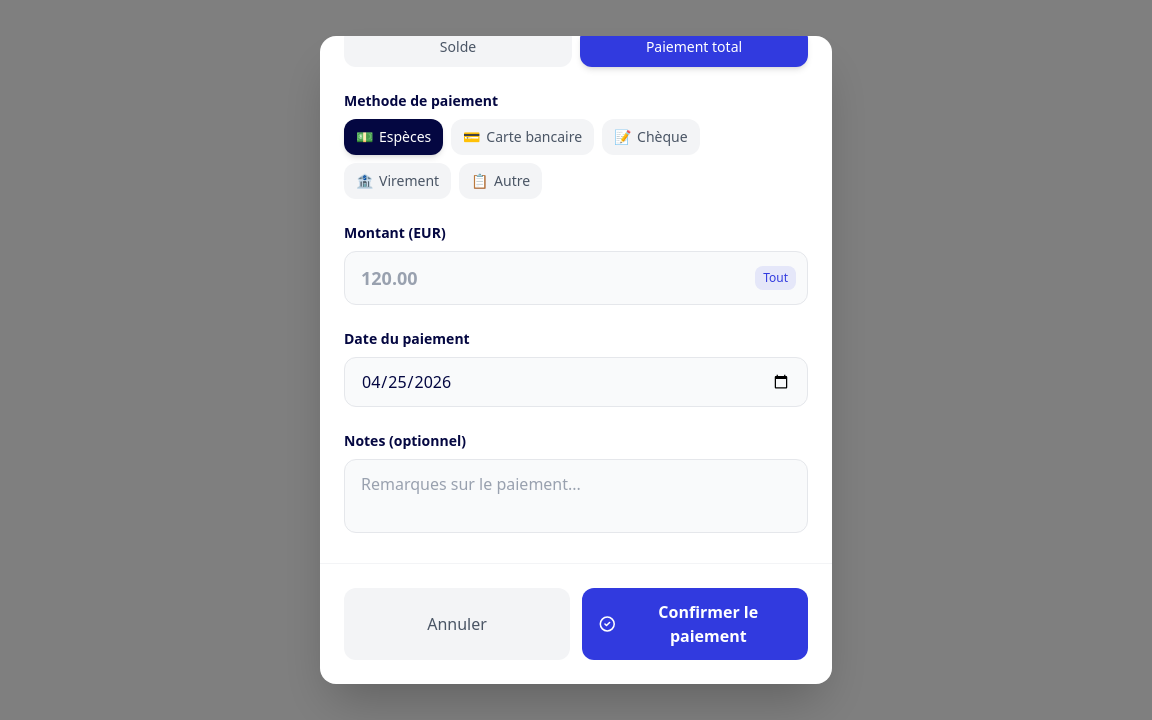
Scenario: PaymentModal › shows error when confirming with empty amount
(page scrolled)
Expected: the number field with placeholder "120.00" is not empty, [344,251,808,305]
Click confirm without filling amount
Click the button "Confirmer le paiement" at x=695, y=624, box [582,588,808,660]
(page scrolled)
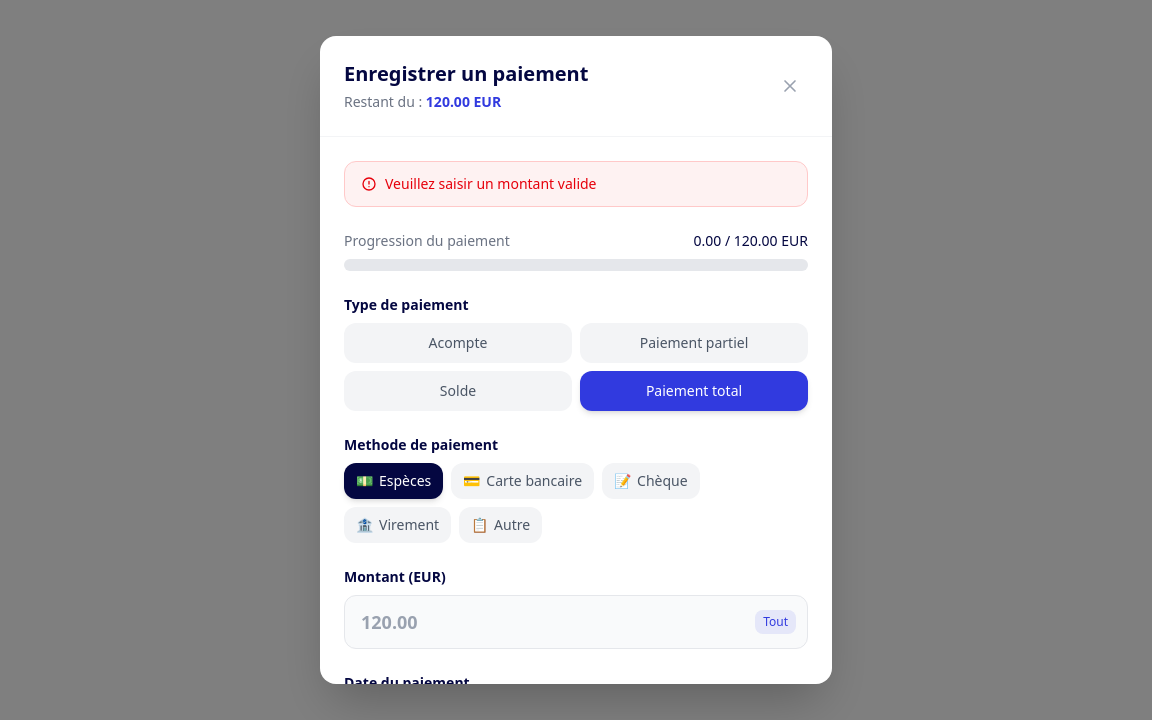
Expected: the text "Veuillez saisir un montant valide" is shown, [344,161,808,207]
